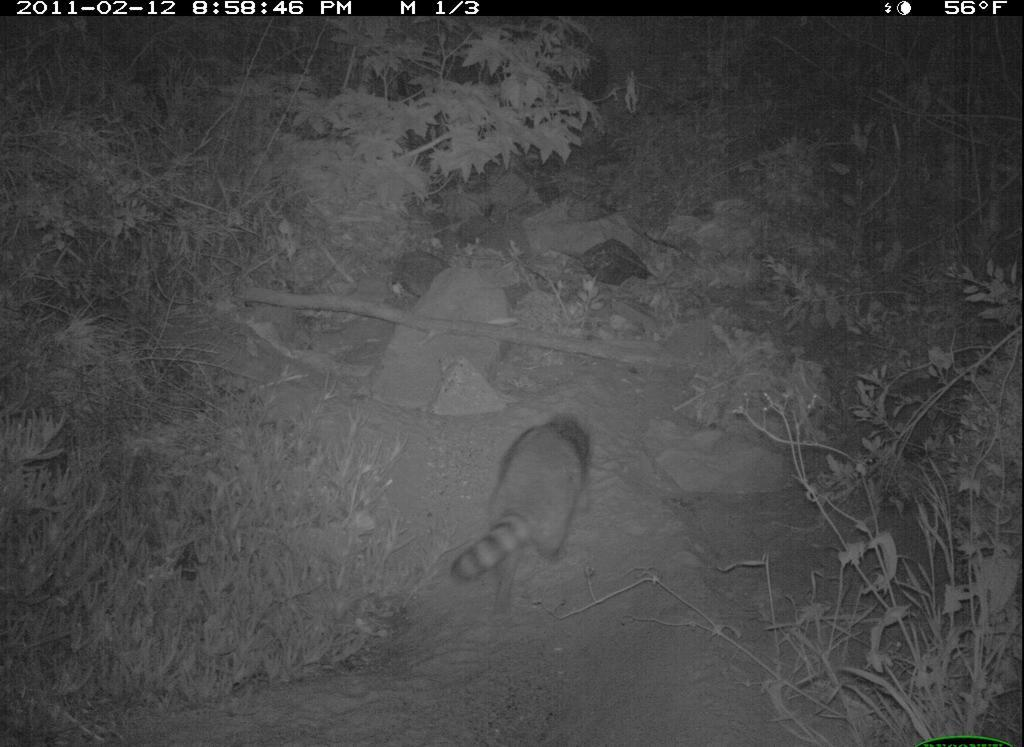raccoon: (436, 410, 607, 615)
